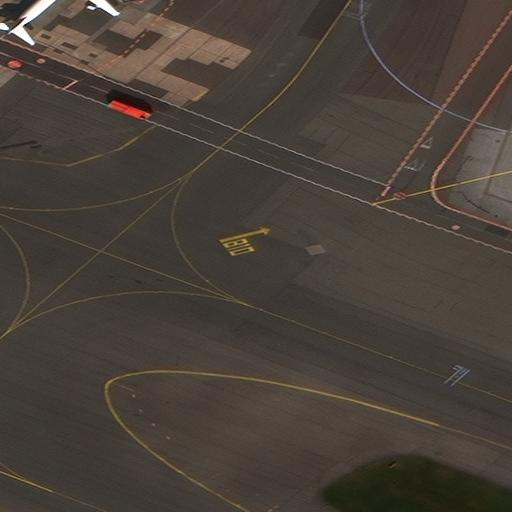Medium Civil Transport: (0, 0, 121, 35)
